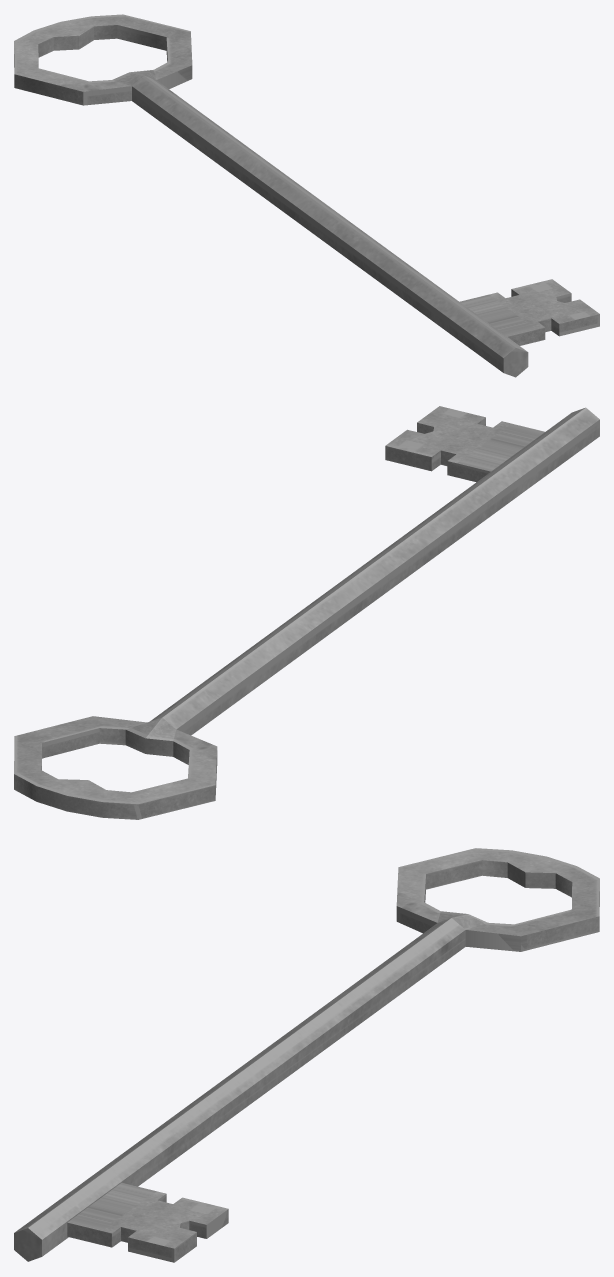
Rendered from Key.fbx.
The picture shows the model from 3 angles, top to bottom: view 1: azimuth 30°, elevation 25°; view 2: azimuth 150°, elevation 25°; view 3: azimuth 330°, elevation 25°; orthographic projection. The views are drawn at different scales.
Parts seen in each view (by area): view 1: polySurface3, polySurface4, pCube2; view 2: polySurface3, polySurface4, pCube2; view 3: polySurface3, polySurface4, pCube2.
Part boxes in pixels (x1,y1,x2,y2): polySurface3: [132, 75, 528, 377]; polySurface4: [14, 14, 192, 105]; pCube2: [459, 279, 599, 345]; polySurface3: [150, 407, 599, 735]; polySurface4: [14, 716, 217, 819]; pCube2: [385, 406, 544, 482]; polySurface3: [14, 918, 465, 1261]; polySurface4: [396, 848, 599, 951]; pCube2: [67, 1183, 228, 1262].
Size of the model in its own units: 8.52 by 1.25 by 34.55.
Materials: 1 (1 with a texture image).
